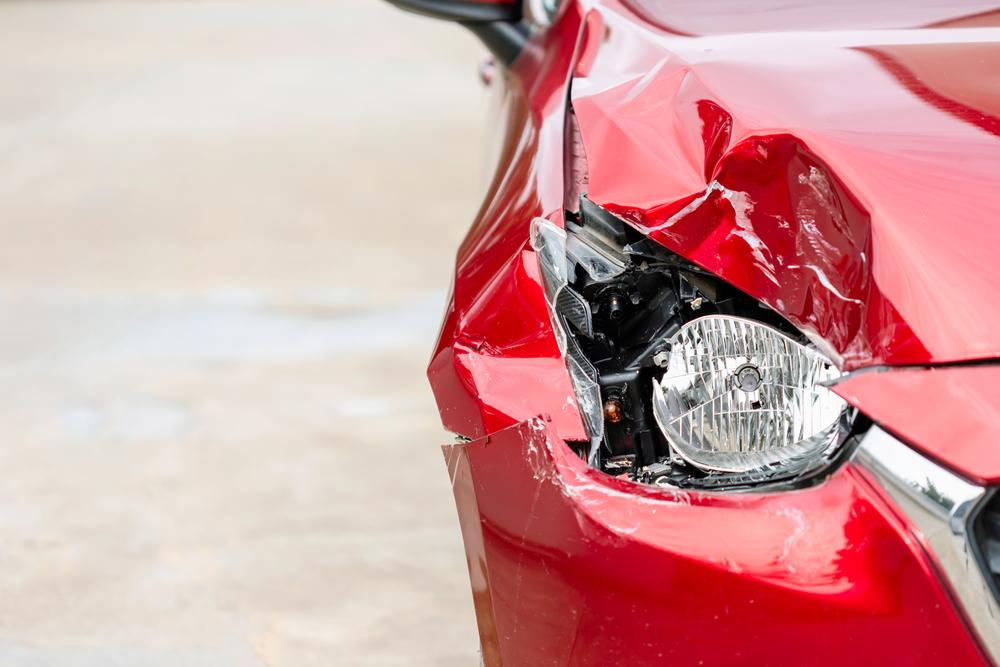dent: (575, 47, 886, 370), (457, 240, 588, 441)
lamp broken: (529, 216, 859, 492)
scratch: (521, 414, 843, 579)
